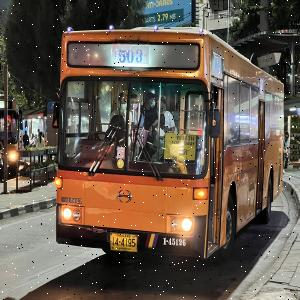BMTA-bus: (54, 29, 285, 261)
Bus Line Number: (110, 42, 151, 68)
Bus Side Number: (160, 233, 187, 252)
Destination Sign: (163, 132, 196, 162)
